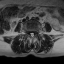CCS_stenosis: (31, 30, 33, 38)
LFS_severe_stenosis: (34, 30, 36, 35)
LLS_stenosis: (33, 31, 34, 37)
RFS_severe_stenosis: (27, 29, 29, 35)
RLS_severe_stenosis: (29, 31, 31, 37)
